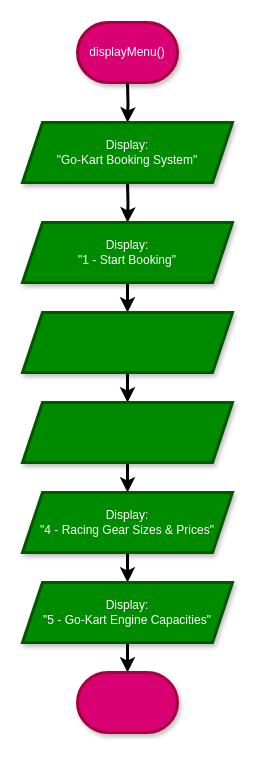
Image size: 257x758. Some labels were removed from this diagram. The centre of each missing label's shape, as x and y in pixels:
Display: "2 - Race Formats": the point at 128,343
Display: "3 - Track Lists": the point at 128,433
End: the point at 128,703
